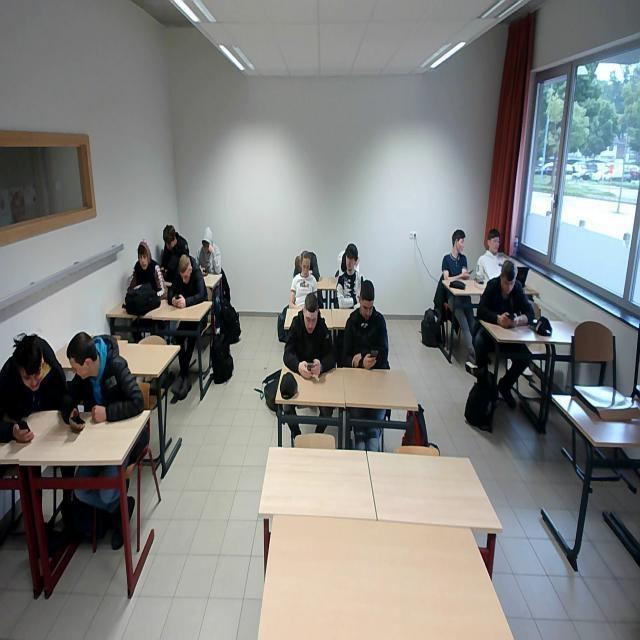phone_use: (61, 331, 142, 429), (0, 333, 64, 441), (282, 292, 333, 377), (342, 280, 387, 367), (476, 259, 532, 326), (167, 263, 205, 305), (159, 224, 187, 280), (196, 226, 219, 272)
